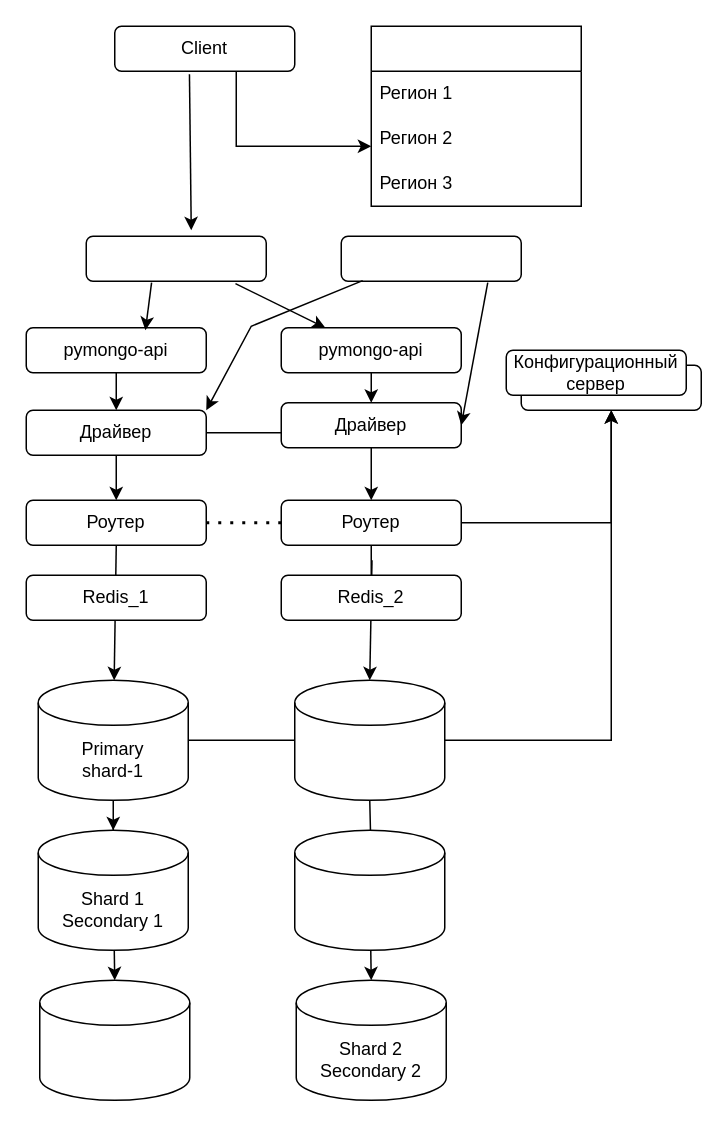
Image size: 728x1127. Some labels were removed from this diagram. Each missing label, with the box of its shape:
API Gateway: (85, 235, 266, 281)
CDN servers: (370, 25, 581, 206)
Consul: (340, 235, 521, 281)
Primary shard-2: (293, 679, 445, 800)
Shard 1 Secondary 2: (38, 979, 190, 1100)
Shard 2 Secondary 1: (293, 829, 445, 950)
